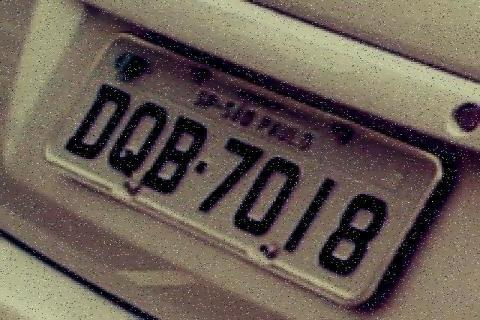LicensePlate: (31, 10, 451, 315)
